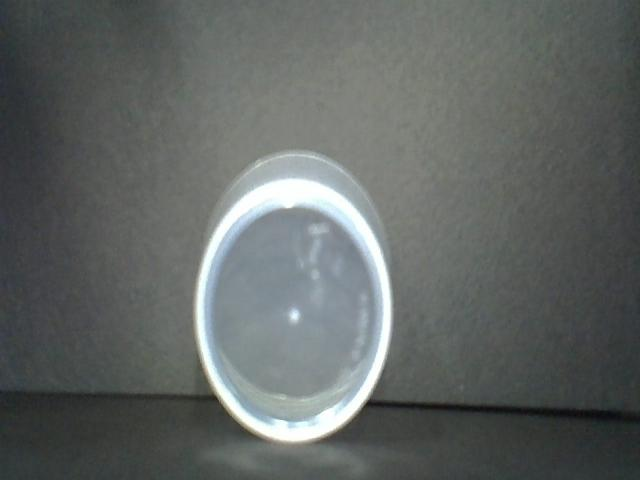cup: (183, 138, 400, 456)
